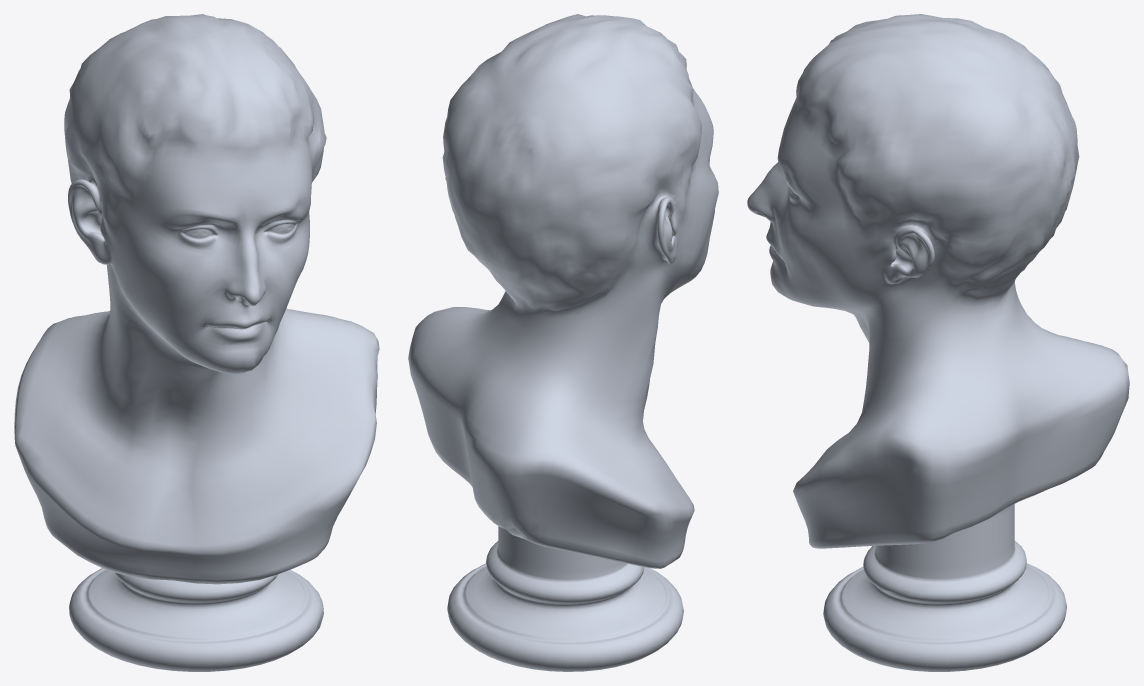
File: studio-bust.glb
3 views of the same model, side by side, from view 1: azimuth 30°, elevation 25°; view 2: azimuth 150°, elevation 25°; view 3: azimuth 270°, elevation 25° (orthographic). The views are drawn at different scales.
Visible parts, largest first — view 1: marble_bust_01; view 2: marble_bust_01; view 3: marble_bust_01.
Boxes of the visible parts, left/top/right/bottom form: marble_bust_01: left=14, top=14, right=379, bottom=671; marble_bust_01: left=408, top=14, right=718, bottom=671; marble_bust_01: left=747, top=14, right=1129, bottom=671.
Size of the model in its own units: 0.2717 by 0.5149 by 0.2997.
